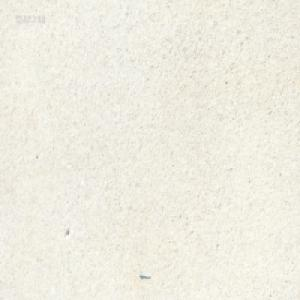Nail: (139, 271, 150, 279)
